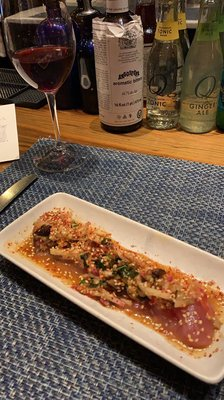curry: (0, 83, 224, 397)
sandwich: (5, 203, 224, 384), (2, 1, 84, 179)
